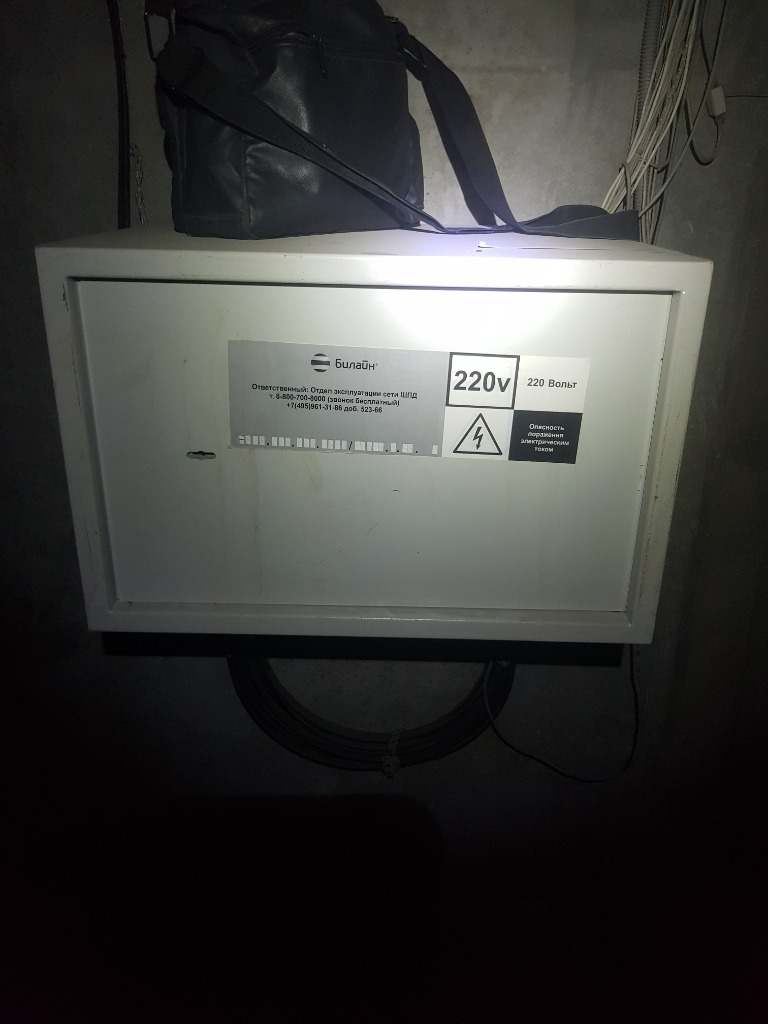shta-7m: (27, 216, 722, 647)
